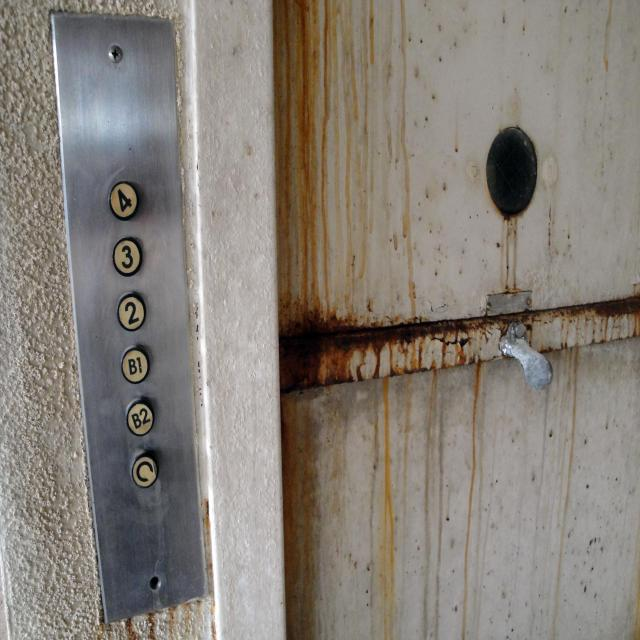2: (114, 290, 146, 333)
3: (111, 237, 141, 275)
4: (107, 178, 141, 221)
B1: (120, 345, 150, 385)
B2: (125, 396, 155, 437)
C: (129, 450, 158, 488)
